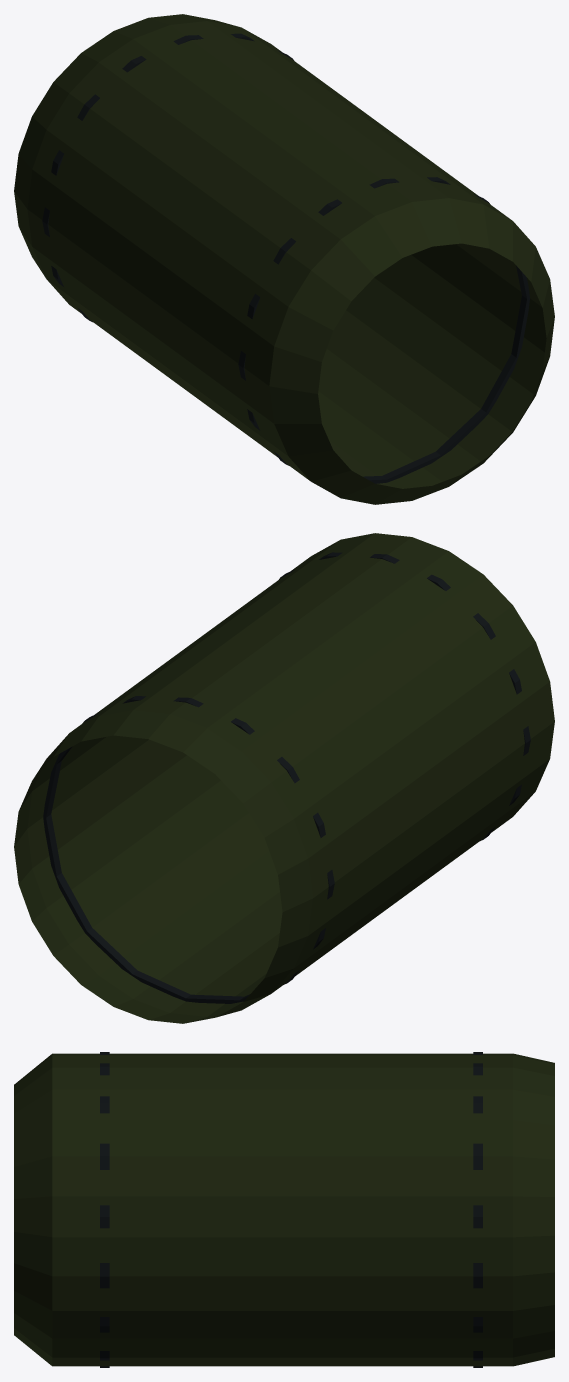
File: Rocket70Nineteen__PodShell.obj
The picture shows the model from 3 angles, top to bottom: view 1: azimuth 30°, elevation 25°; view 2: azimuth 150°, elevation 25°; view 3: azimuth 270°, elevation 25°; orthographic projection. The views are drawn at different scales.
Visible parts, largest first — view 1: Pod_aerodynamic_outer_shell, Identification_band, Identification_band.001; view 2: Pod_aerodynamic_outer_shell, Identification_band.001, Identification_band; view 3: Pod_aerodynamic_outer_shell, Identification_band, Identification_band.001.
Boxes of the visible parts, box(x1,y1,x2,y2) form: Pod_aerodynamic_outer_shell: box(14, 14, 554, 504); Identification_band: box(238, 177, 529, 483); Identification_band.001: box(42, 33, 294, 322); Pod_aerodynamic_outer_shell: box(14, 533, 554, 1023); Identification_band.001: box(43, 696, 334, 1003); Identification_band: box(279, 552, 530, 840); Pod_aerodynamic_outer_shell: box(14, 1053, 554, 1366); Identification_band: box(100, 1052, 109, 1367); Identification_band.001: box(473, 1052, 482, 1367).
Bounding box in the file's own units: 0.9054 × 0.9054 × 1.55.
